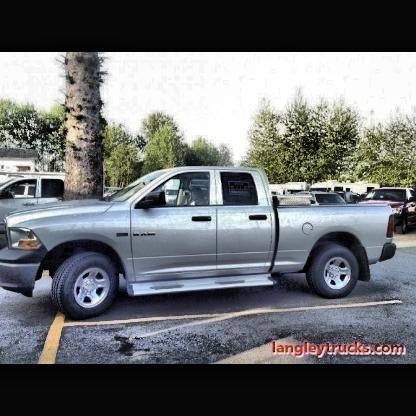Dodge Ram Pickup 3500 Quad Cab 2009: (3, 171, 391, 321)
